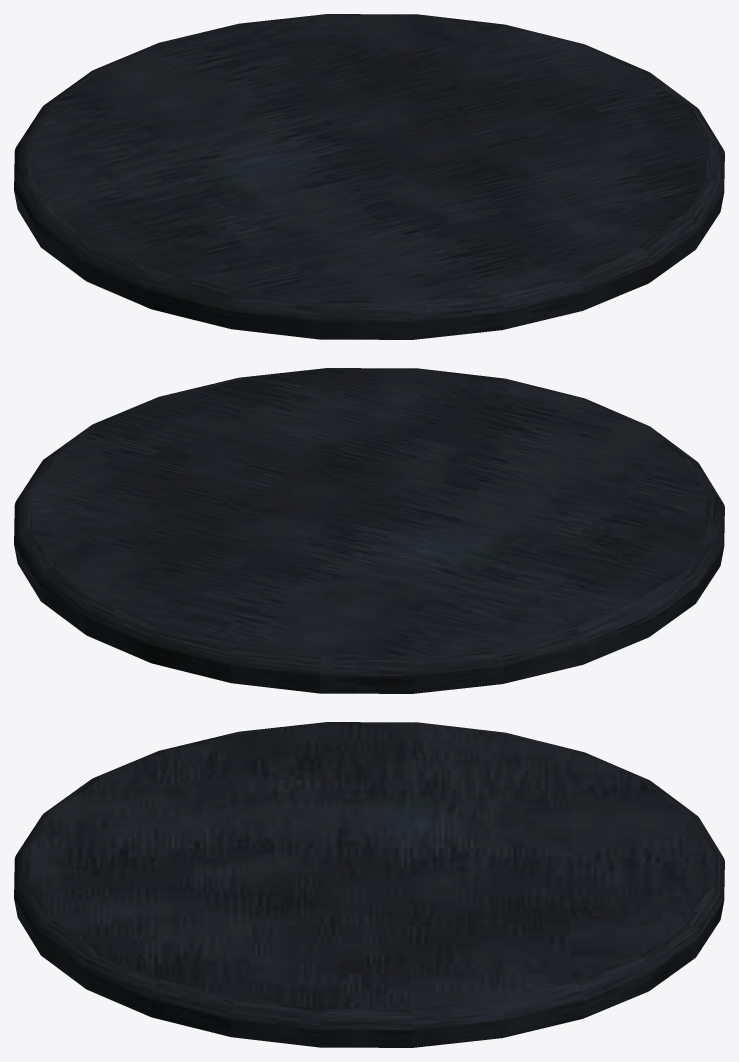
The model's file is original-3.obj.
3 views of the same model, one above another, from view 1: azimuth 30°, elevation 25°; view 2: azimuth 150°, elevation 25°; view 3: azimuth 270°, elevation 25° (orthographic).
Parts seen in each view (by area): view 1: #ID49; view 2: #ID49; view 3: #ID49.
Boxes of the visible parts, x1,y1,x2,y2 form: #ID49: (14, 14, 724, 339); #ID49: (14, 368, 724, 693); #ID49: (14, 722, 724, 1047).
Bounding box in the file's own units: 0.6137 × 0.0312 × 0.6137.
